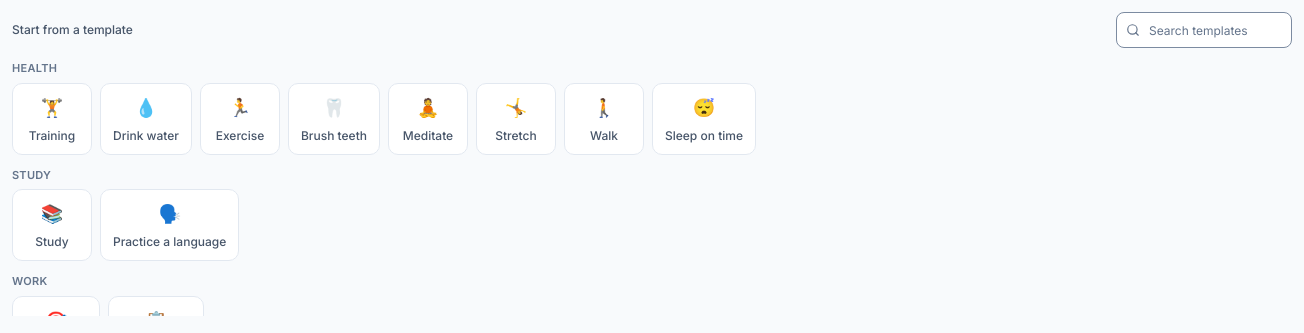
HabitTemplateSelector › shows an empty state when no template matches the search
The image size is (1304, 333).
Type "zzzznomatch" into the search field labelled "Search templates".
click(1204, 30); type("zzzznomatch")  # box x1=1116 y1=12 x2=1292 y2=48
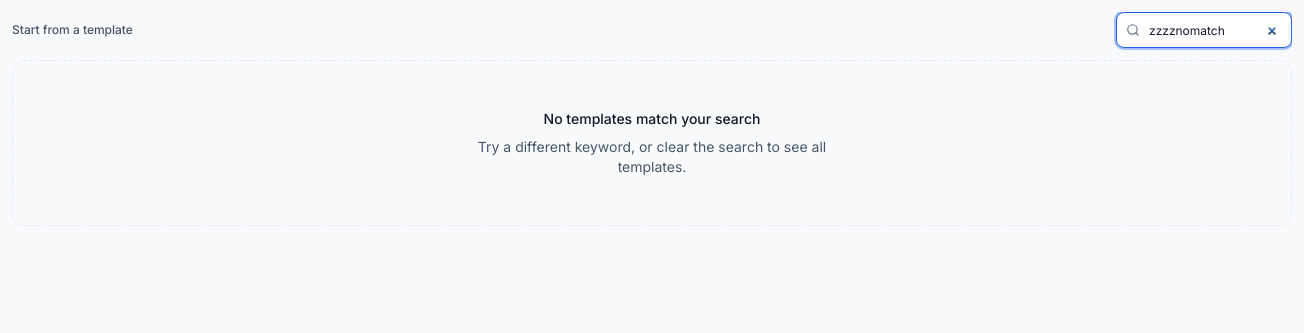
Expected: the button "Journal" is not shown
Result: the text "No templates match your search" is shown at x1=544 y1=109 x2=760 y2=129
